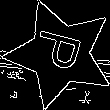P_E: (29, 30, 90, 79)
